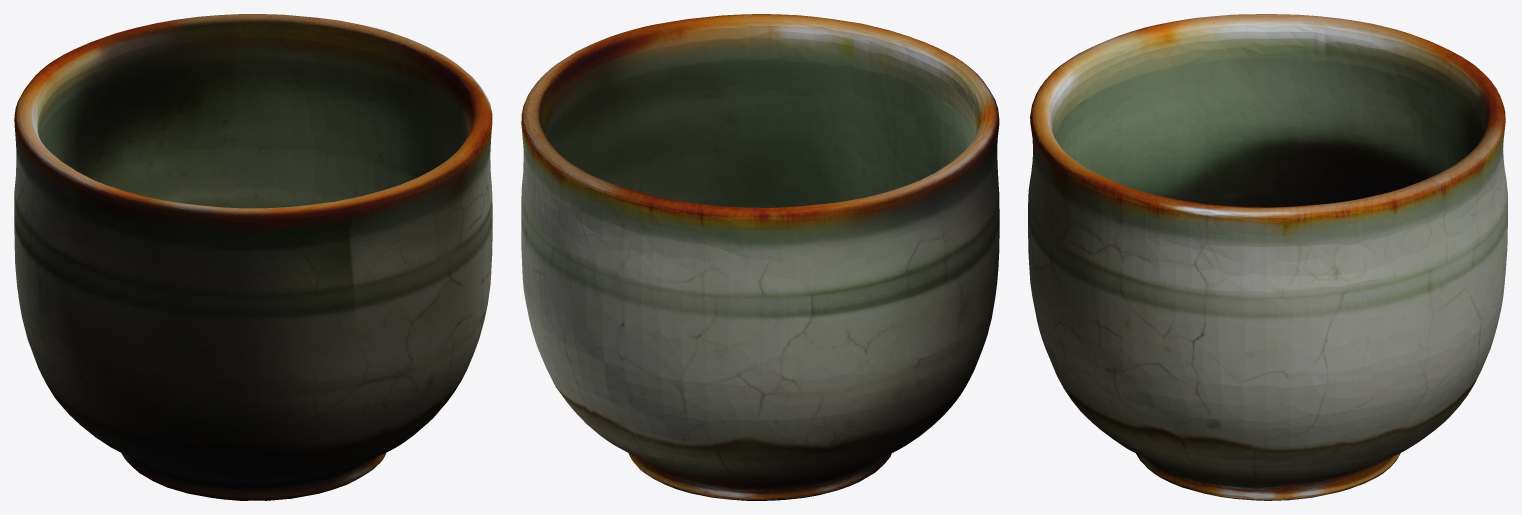
File: porcelain-bathroom-cup-used-rustic-worn.jpeg.glb
3 views of the same model, side by side, from view 1: azimuth 30°, elevation 25°; view 2: azimuth 150°, elevation 25°; view 3: azimuth 270°, elevation 25° (orthographic).
Visible parts, largest first — view 1: world; view 2: world; view 3: world.
Part boxes in pixels (bbox=[...]): world: bbox=[14, 14, 492, 500]; world: bbox=[521, 14, 999, 500]; world: bbox=[1028, 14, 1507, 500].
Bounding box in the file's own units: 0.9991 × 0.7668 × 0.9994.
1 material, 1 textured.
